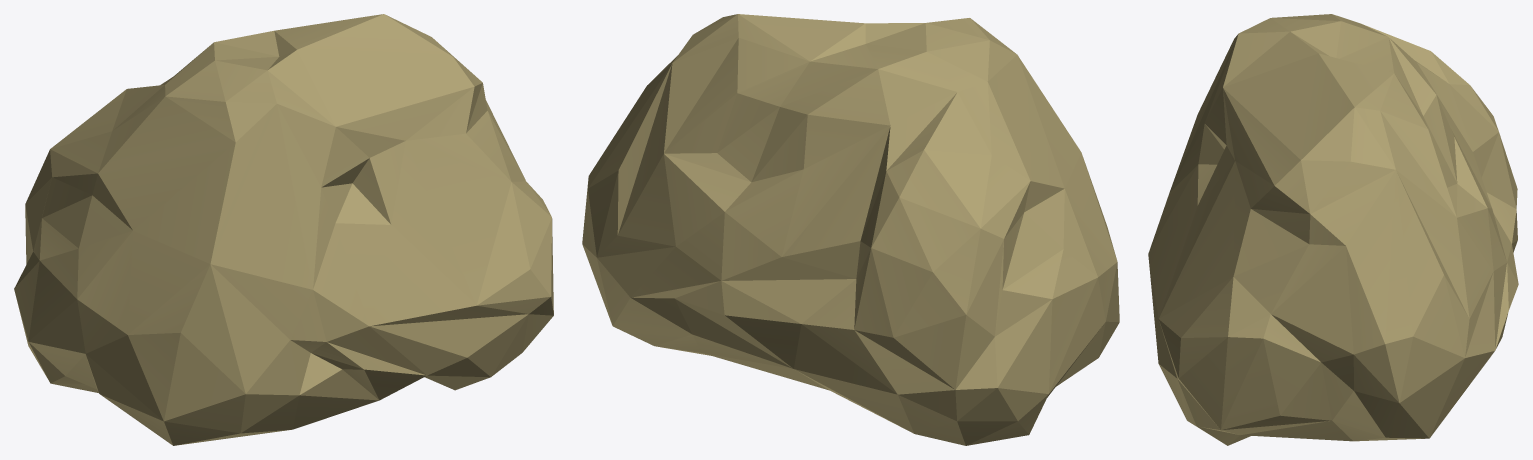
Rendered from SM_rock_71.fbx.
3 views of the same model, side by side, from view 1: azimuth 30°, elevation 25°; view 2: azimuth 150°, elevation 25°; view 3: azimuth 270°, elevation 25° (orthographic). The views are drawn at different scales.
Visible parts, largest first — view 1: rock_71; view 2: rock_71; view 3: rock_71.
Boxes of the visible parts, x1,y1,x2,y2 form: rock_71: (14,14,553,445); rock_71: (582,14,1119,445); rock_71: (1148,14,1518,445).
Bounding box in the file's own units: 217 × 153 × 154.
